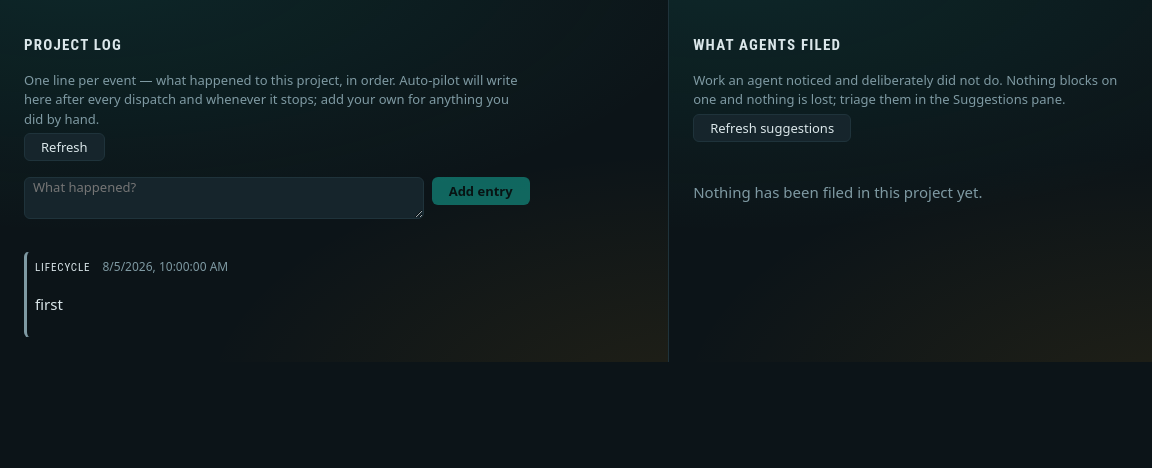
Test: adding to the log by hand › offers a refresh even when the last read succeeded
Check: the text "first" is shown, box [35,294,63,314]
Click the button "Refresh".
click(64, 147)  # box [24,133,105,161]
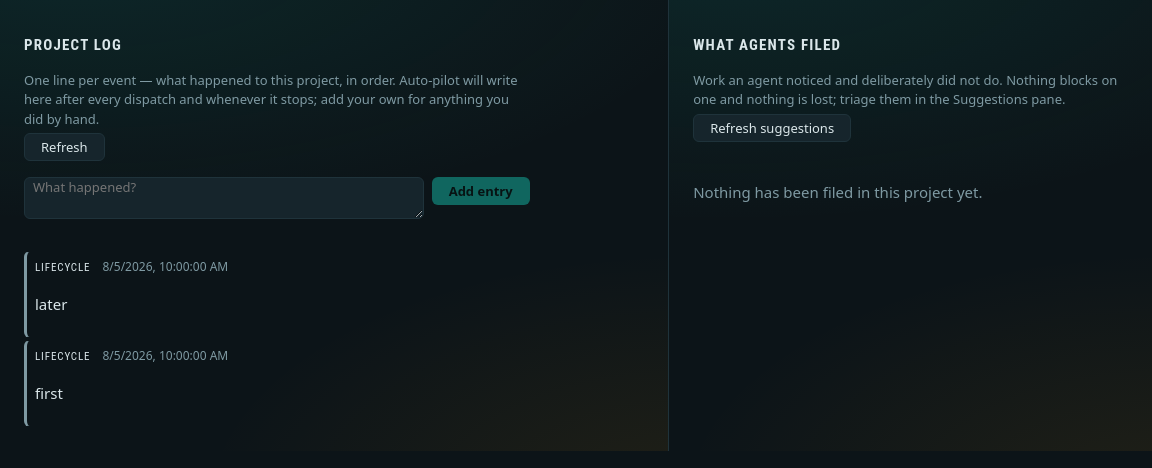
Check: the text "later" is shown, box [35,294,67,314]
